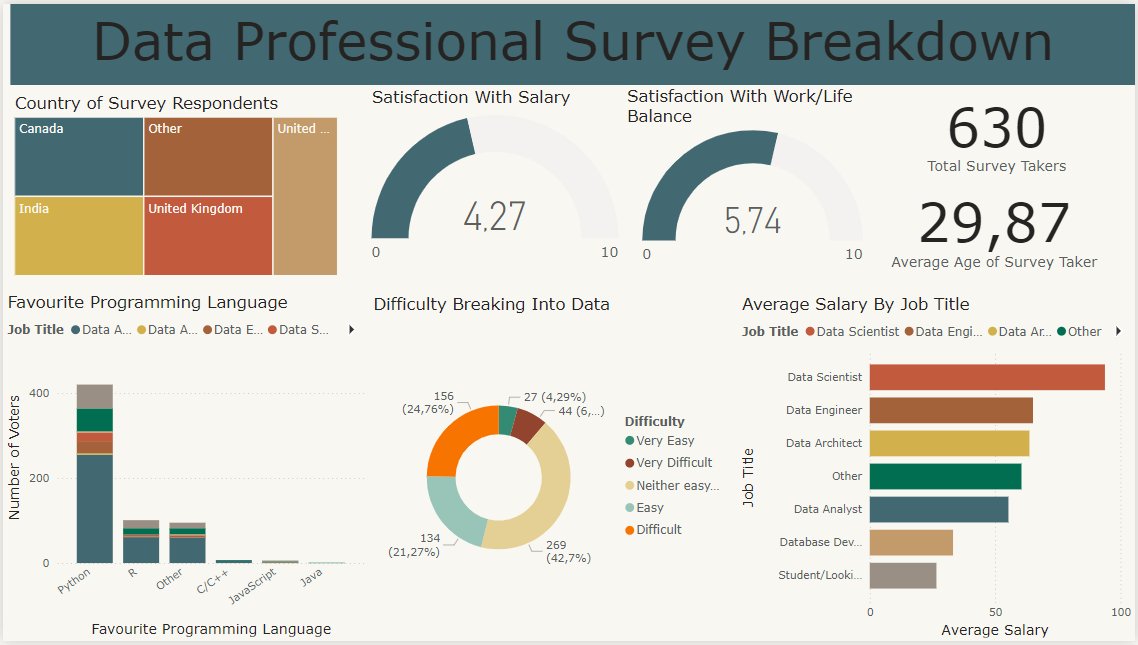

The page's visual inventory and layout, read from the dashboard file:
{"tool":"powerbi","page":{"name":"Page 1","canvas":[1280,720],"ordinal":0},"visuals":[{"type":"textbox","box":[9.1,0,1271.4,91.5],"z":0},{"type":"card","fields":{"Values":["CountNonNull(Data Professional Survey.Unique ID)"]},"box":[1026.3,91.5,223.2,107.9],"z":1000},{"type":"card","fields":{"Values":["Avg(Data Professional Survey.Q10 - Current Age)"]},"box":[1026.3,199.4,254.3,104.3],"z":2000},{"type":"barChart","title":"Average Salary By Job Title","fields":{"Category":["Data Professional Survey.Q1 - Which Title Best Fits your Current Role?.1"],"Y":["Avg(Data Professional Survey.average salary)"],"Series":["Data Professional Survey.Q1 - Which Title Best Fits your Current Role?.1"]},"box":[830,326,450,394],"z":3000},{"type":"columnChart","title":"Favourite Programming Language","fields":{"Category":["Data Professional Survey.Q5 - Favorite Programming Language.1"],"Y":["CountNonNull(Data Professional Survey.Unique ID)"],"Series":["Data Professional Survey.Q1 - Which Title Best Fits your Current Role?.1"]},"box":[0,325.6,413.4,395.1],"z":4000},{"type":"treemap","title":"Country of Survey Respondents","fields":{"Values":["Count(Data Professional Survey.Q11 - Which Country do you live in?.1)"],"Group":["Data Professional Survey.Q11 - Which Country do you live in?.1"]},"box":[20.1,91.5,375,212.2],"z":5000},{"type":"gauge","title":"Satisfaction With Work/Life Balance","fields":{"Y":["Avg(Data Professional Survey.Q6 - How Happy are you in your Current Position with the following? (Work/Life Balance))"],"MinValue":["Min(Data Professional Survey.Q6 - How Happy are you in your Current Position with the following? (Work/Life Balance))1"],"MaxValue":["Max(Data Professional Survey.Q6 - How Happy are you in your Current Position with the following? (Work/Life Balance))2"]},"box":[711.6,95.1,294.5,208.5],"z":6000},{"type":"gauge","title":"Satisfaction With Salary","fields":{"Y":["Avg(Data Professional Survey.Q6 - How Happy are you in your Current Position with the following? (Salary))"],"MinValue":["Min(Data Professional Survey.Q6 - How Happy are you in your Current Position with the following? (Salary))"],"MaxValue":["Max(Data Professional Survey.Q6 - How Happy are you in your Current Position with the following? (Salary))"]},"box":[413.4,91.5,263.4,212.2],"z":7000},{"type":"donutChart","title":"Difficulty Breaking Into Data","fields":{"Y":["CountNonNull(Data Professional Survey.Q7 - How difficult was it for you to break into Data?)"],"Category":["Data Professional Survey.Q7 - How difficult was it for you to break into Data?"]},"box":[413.4,325.6,417.1,395.1],"z":8000}]}

Visuals, with their boxes in screenshot pixels (x1, y1, x2, y2), scaled from the page's 1280x720 canvas onto the 1138x645 screenshot:
textbox: l=8, t=0, r=1137, b=82
card - CountNonNull(Data Professional Survey.Unique ID): l=912, t=82, r=1111, b=179
card - Avg(Data Professional Survey.Q10 - Current Age): l=912, t=179, r=1137, b=272
"Average Salary By Job Title" barChart: l=738, t=292, r=1137, b=644
"Favourite Programming Language" columnChart: l=0, t=292, r=368, b=644
"Country of Survey Respondents" treemap: l=18, t=82, r=351, b=272
"Satisfaction With Work/Life Balance" gauge: l=633, t=85, r=894, b=272
"Satisfaction With Salary" gauge: l=368, t=82, r=602, b=272
"Difficulty Breaking Into Data" donutChart: l=368, t=292, r=738, b=644
